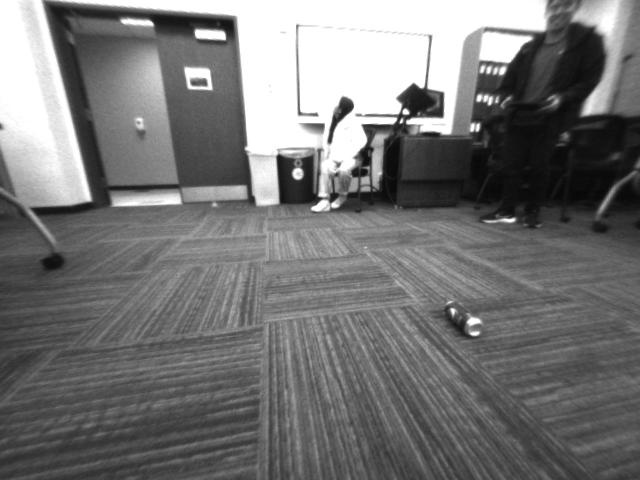can: (432, 296, 491, 340)
